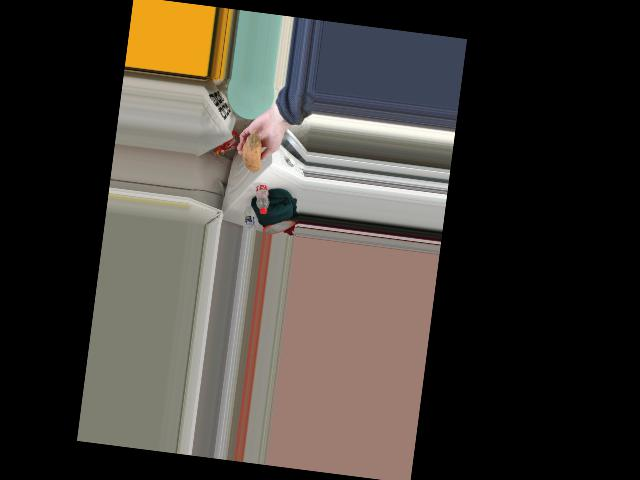sweet_potato: (242, 127, 267, 175)
